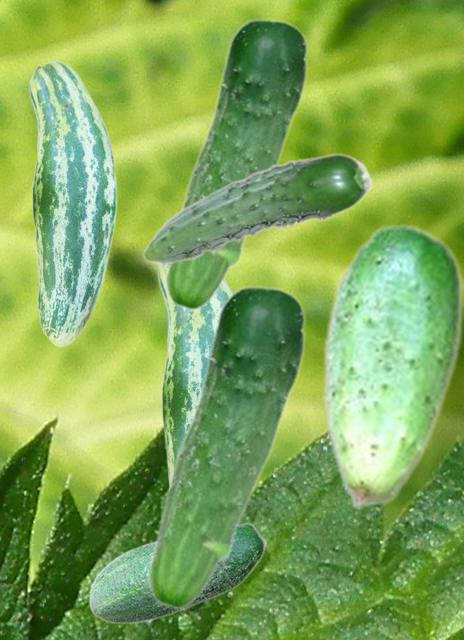cucumber: (146, 285, 306, 609), (164, 18, 308, 310), (322, 222, 462, 508), (142, 153, 372, 263), (28, 60, 116, 346), (88, 522, 266, 623), (157, 264, 232, 481)
